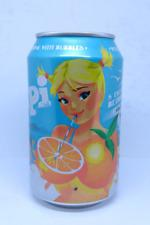metal: (28, 33, 123, 208)
